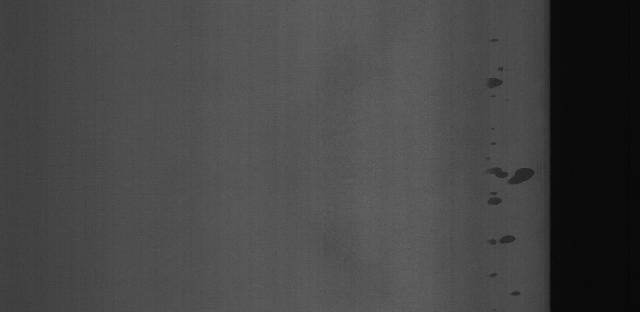oil_spot: (491, 268, 527, 300), (486, 163, 535, 185), (480, 67, 511, 93), (480, 188, 509, 204), (492, 231, 517, 249)
